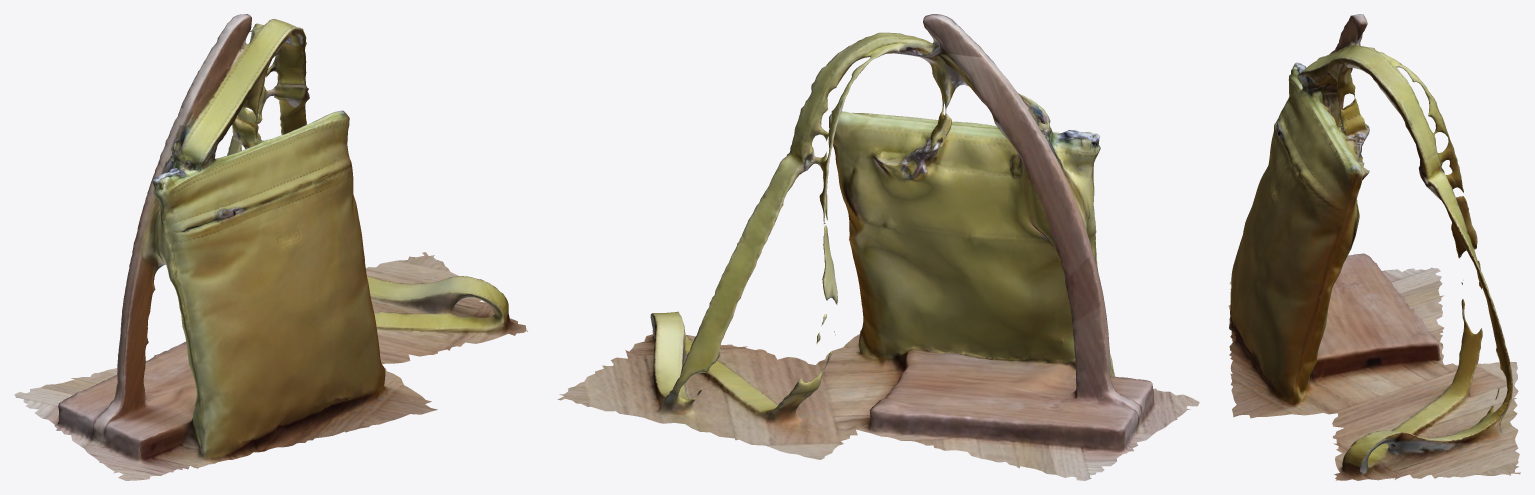
3 views of the same model, side by side, from view 1: azimuth 30°, elevation 25°; view 2: azimuth 150°, elevation 25°; view 3: azimuth 270°, elevation 25° (orthographic). The views are drawn at different scales.
Bounding box in the file's own units: 1.65 × 1.28 × 0.9827.
